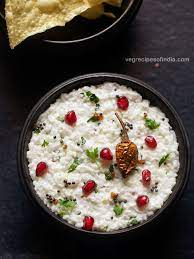curd_rice: (24, 77, 180, 227)
